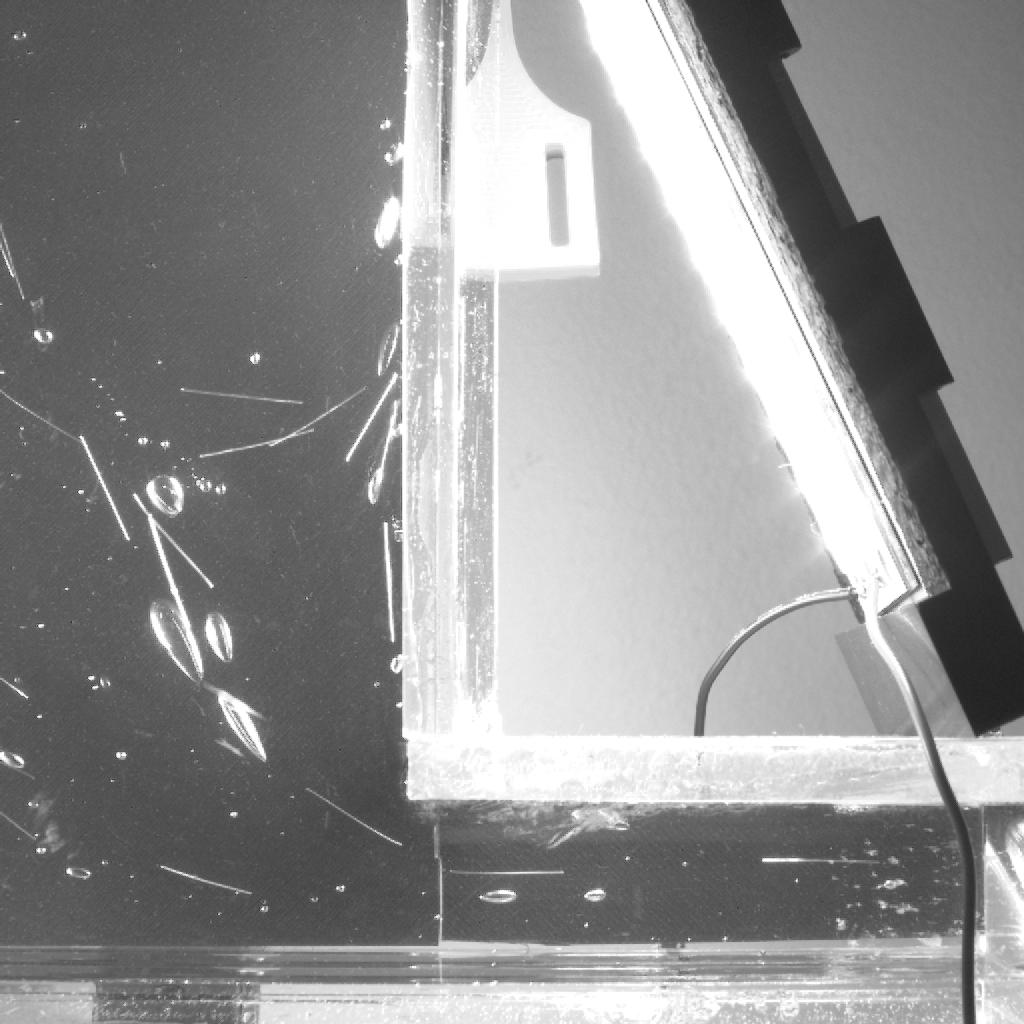Fiber: (146, 510, 206, 675), (128, 494, 217, 590), (300, 784, 405, 849), (265, 385, 369, 449), (76, 434, 132, 542), (2, 389, 92, 451), (346, 370, 398, 465), (200, 425, 318, 458), (156, 863, 258, 899), (177, 385, 302, 406), (374, 518, 395, 643), (1, 224, 28, 305), (378, 402, 398, 492), (766, 853, 882, 865), (0, 810, 37, 845), (0, 754, 38, 785), (451, 868, 563, 876), (1, 675, 32, 702)
